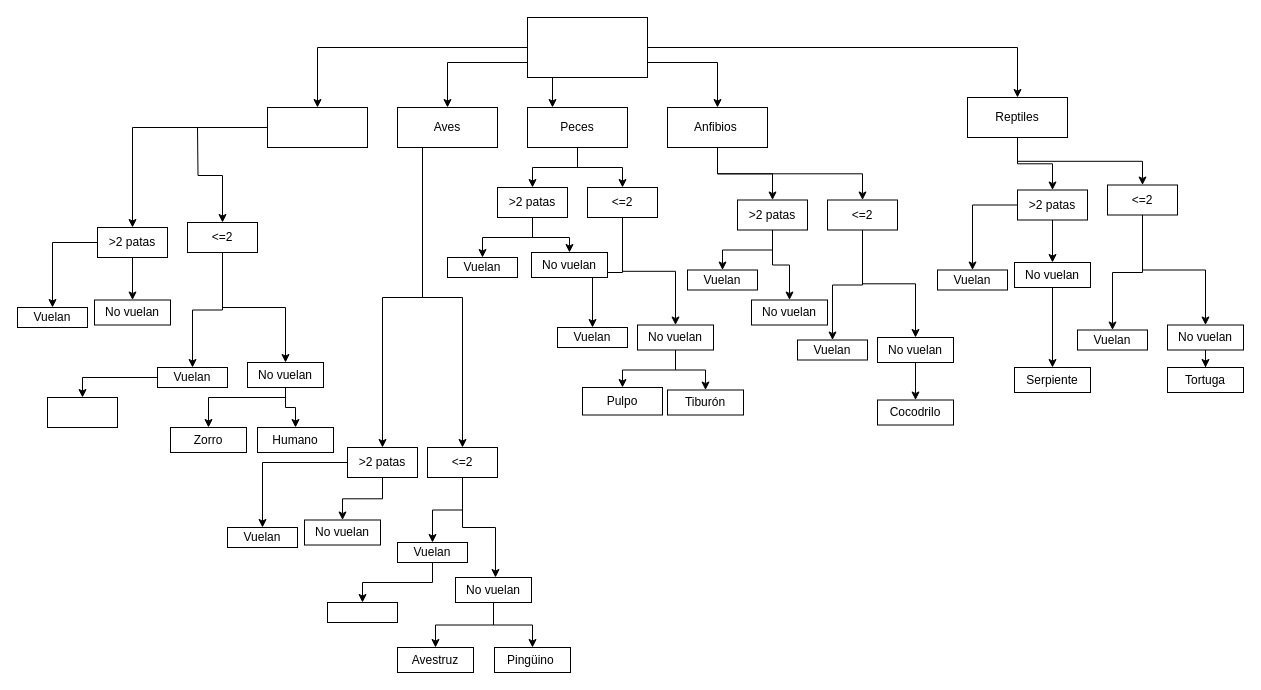
The diagram is 1261 pixels wide and 690 high, and some of its shapes have lost their labels. The shapes that lost their labels are listed below. From the top down, each one's centre as x and y in pixels, then its label:
point (587, 47): Animales
point (317, 127): Mamiferos
point (82, 412): Murcielago
point (362, 612): Cisne
